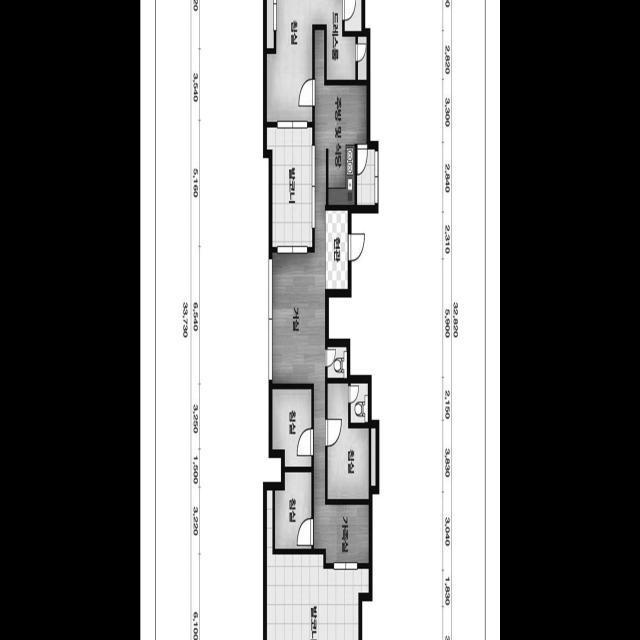background: (140, 0, 500, 640)
space_balconi: (267, 490, 368, 640), (267, 128, 312, 247), (357, 149, 374, 205), (267, 0, 273, 48)
space_bedroom: (267, 0, 324, 122), (327, 384, 368, 499), (272, 390, 311, 467), (275, 472, 311, 549)
space_dressroom: (324, 0, 355, 80)
space_front: (325, 210, 347, 289)
space_kitchen: (328, 85, 366, 205)
space_living_room: (272, 30, 369, 563)
space_other: (357, 36, 366, 80)
space_toilet: (350, 383, 367, 423), (327, 347, 346, 378), (344, 0, 361, 31)
